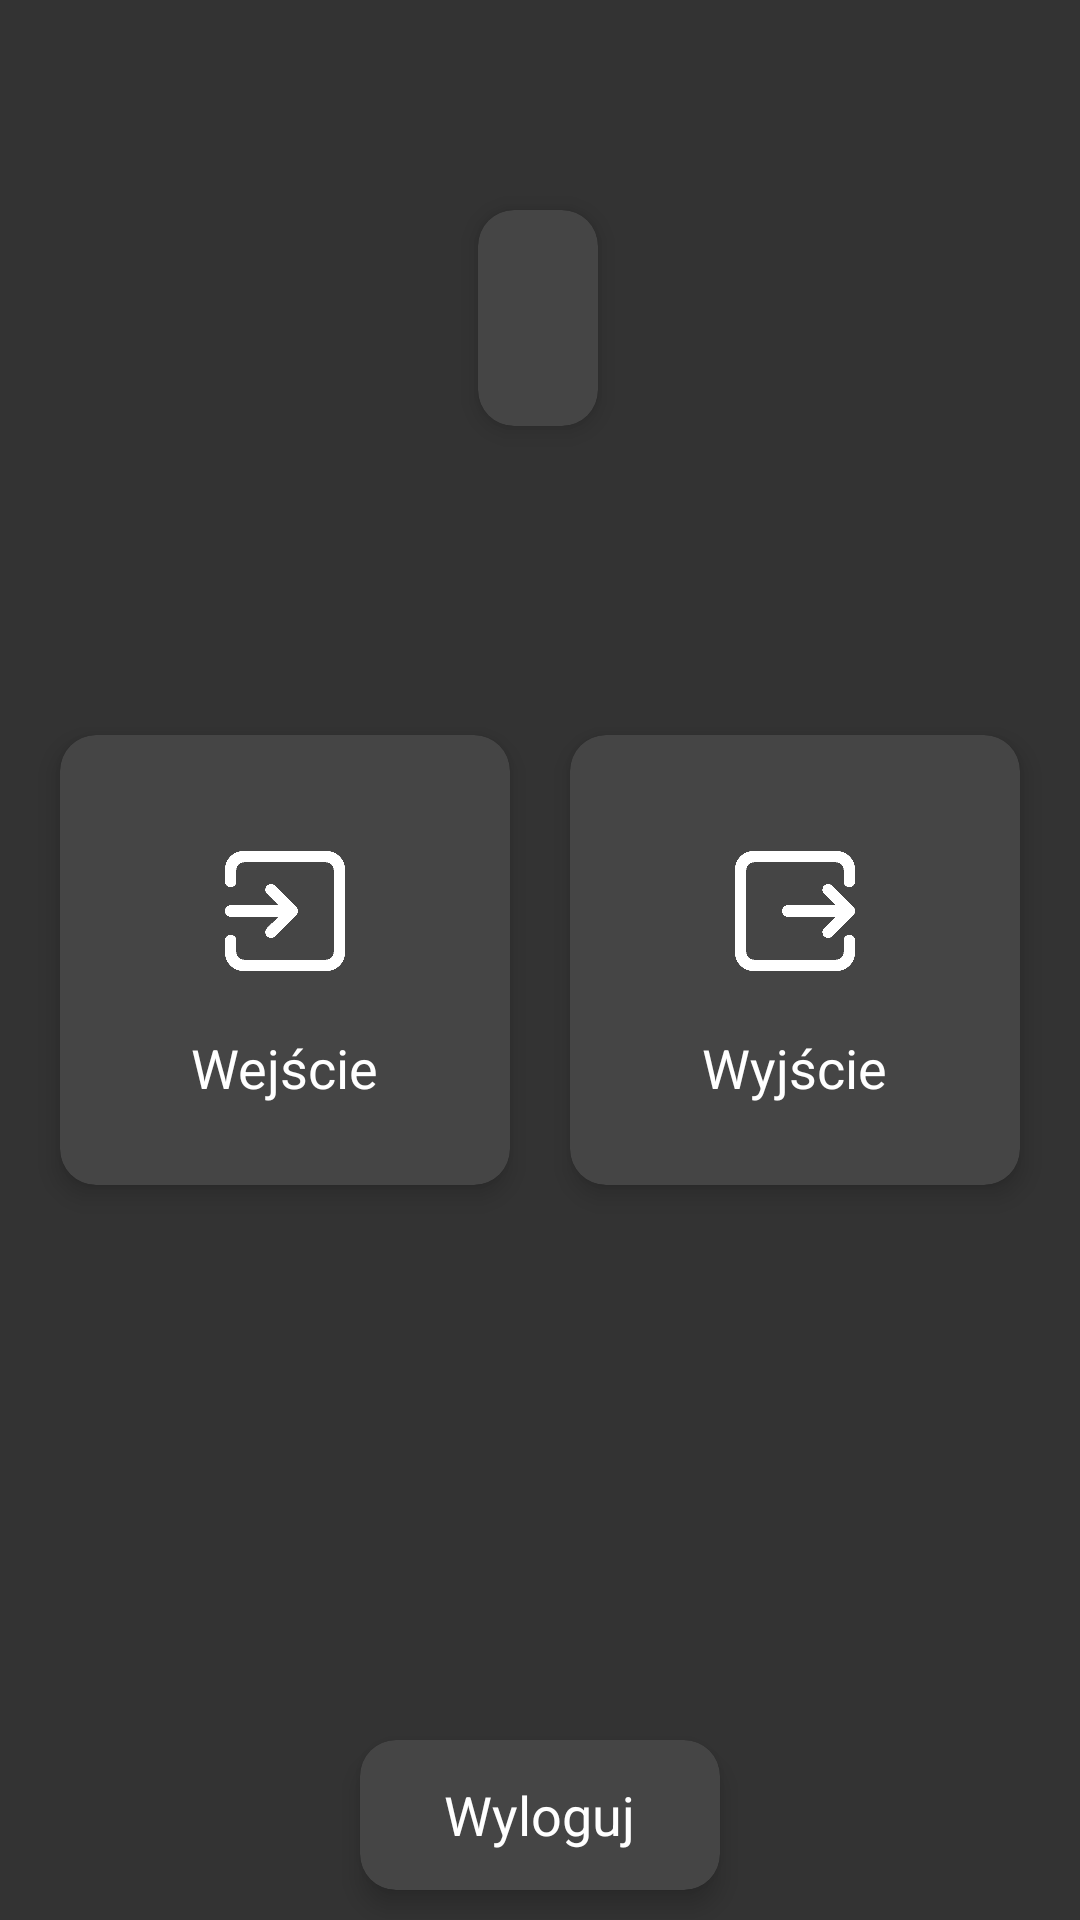

Point at icon controls on the screen. Image size 1080px x 1920px, points as (x,y).
wejdz: (285,911)
wyjdz: (795,911)
